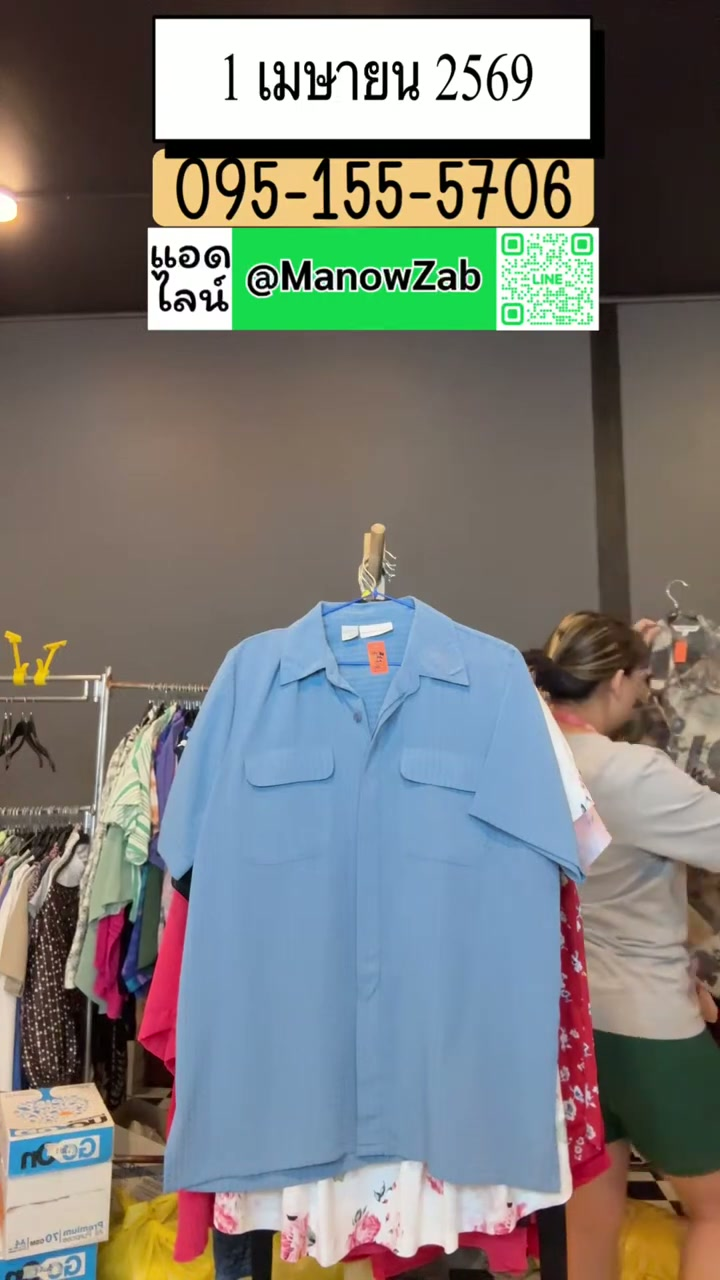display_shirt: (160, 598, 593, 1245)
